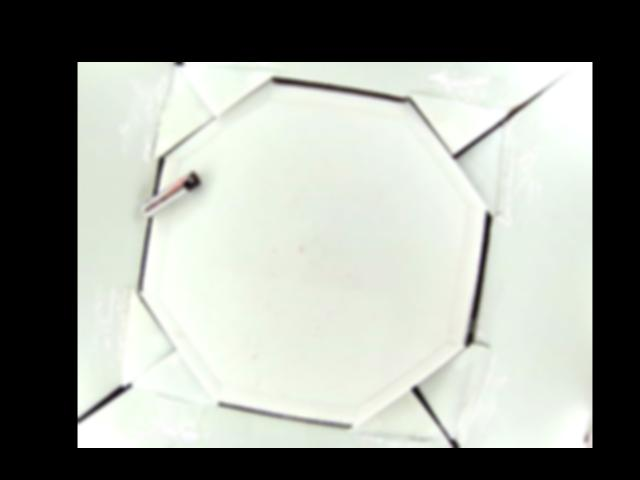Battery: (141, 168, 203, 217)
